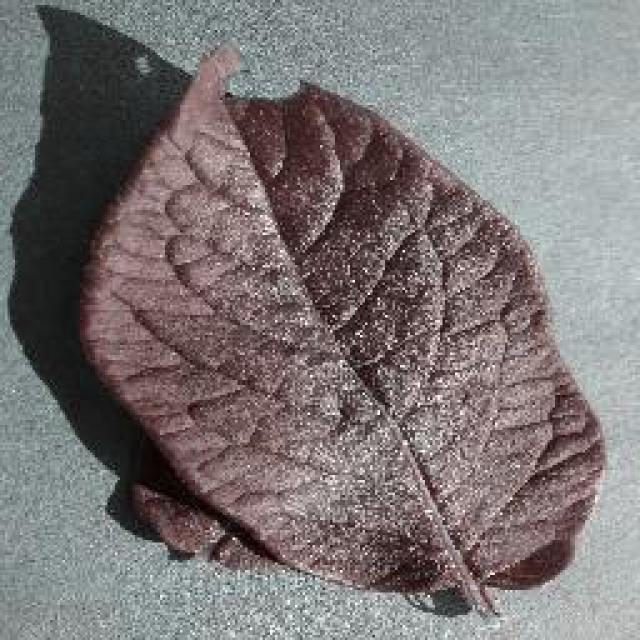Potato___healthy: (71, 38, 610, 633)
